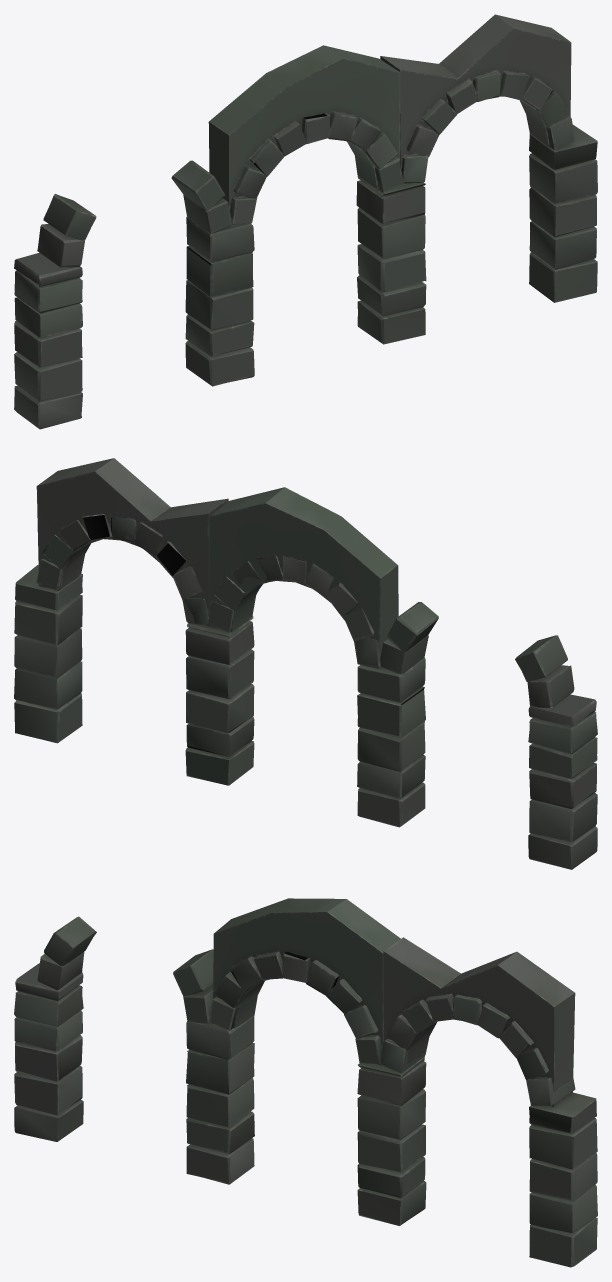
File: crypt_skyline_arches.glb
3 views of the same model, one above another, from view 1: azimuth 30°, elevation 25°; view 2: azimuth 150°, elevation 25°; view 3: azimuth 330°, elevation 25° (orthographic).
Parts seen in each view (by area): view 1: crypt_skyline_arches; view 2: crypt_skyline_arches; view 3: crypt_skyline_arches.
Boxes of the visible parts, x1=… form: crypt_skyline_arches: x1=14, y1=14, x2=597, y2=429; crypt_skyline_arches: x1=14, y1=458, x2=597, y2=869; crypt_skyline_arches: x1=14, y1=898, x2=597, y2=1267.
Bounding box in the file's own units: 24.81 × 12.42 × 2.02.
1 material, 1 textured.
